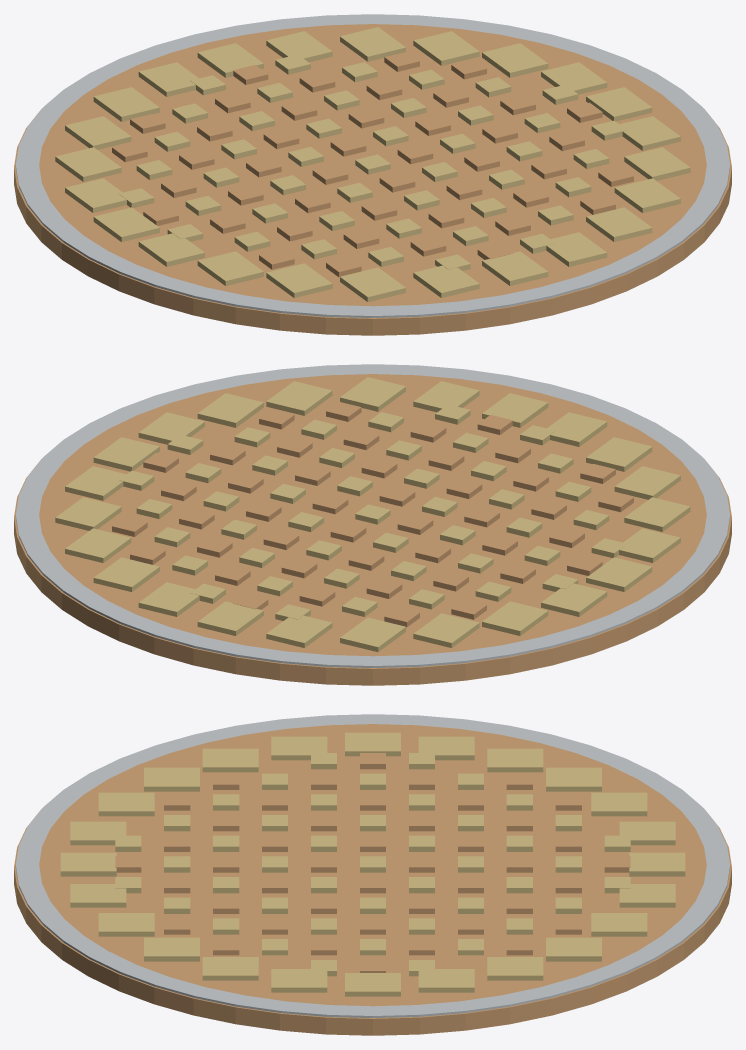
File: 03_L78_PlanarizedCopperInterconnectWafer.glb
The picture shows the model from 3 angles, top to bottom: view 1: azimuth 30°, elevation 25°; view 2: azimuth 150°, elevation 25°; view 3: azimuth 270°, elevation 25°; orthographic projection.
Parts seen in each view (by area): view 1: PlanarizedCopperInterconnectWafer_Node_0000, PlanarizedCopperInterconnectWafer_Node_0001, PlanarizedCopperInterconnectWafer_Node_0023, PlanarizedCopperInterconnectWafer_Node_0011, PlanarizedCopperInterconnectWafer_Node_0024, PlanarizedCopperInterconnectWafer_Node_0014, PlanarizedCopperInterconnectWafer_Node_0016, PlanarizedCopperInterconnectWafer_Node_0005, PlanarizedCopperInterconnectWafer_Node_0006, PlanarizedCopperInterconnectWafer_Node_0012, PlanarizedCopperInterconnectWafer_Node_0010, PlanarizedCopperInterconnectWafer_Node_0004 (+14 smaller); view 2: PlanarizedCopperInterconnectWafer_Node_0000, PlanarizedCopperInterconnectWafer_Node_0001, PlanarizedCopperInterconnectWafer_Node_0005, PlanarizedCopperInterconnectWafer_Node_0004, PlanarizedCopperInterconnectWafer_Node_0017, PlanarizedCopperInterconnectWafer_Node_0012, PlanarizedCopperInterconnectWafer_Node_0014, PlanarizedCopperInterconnectWafer_Node_0016, PlanarizedCopperInterconnectWafer_Node_0022, PlanarizedCopperInterconnectWafer_Node_0023, PlanarizedCopperInterconnectWafer_Node_0018, PlanarizedCopperInterconnectWafer_Node_0010 (+14 smaller); view 3: PlanarizedCopperInterconnectWafer_Node_0000, PlanarizedCopperInterconnectWafer_Node_0001, PlanarizedCopperInterconnectWafer_Node_0010, PlanarizedCopperInterconnectWafer_Node_0012, PlanarizedCopperInterconnectWafer_Node_0016, PlanarizedCopperInterconnectWafer_Node_0018, PlanarizedCopperInterconnectWafer_Node_0008, PlanarizedCopperInterconnectWafer_Node_0020, PlanarizedCopperInterconnectWafer_Node_0005, PlanarizedCopperInterconnectWafer_Node_0011, PlanarizedCopperInterconnectWafer_Node_0017, PlanarizedCopperInterconnectWafer_Node_0023 (+14 smaller).
Boxes of the visible parts, <box> form: PlanarizedCopperInterconnectWafer_Node_0000: <box>14,24,731,335</box>; PlanarizedCopperInterconnectWafer_Node_0001: <box>15,14,730,317</box>; PlanarizedCopperInterconnectWafer_Node_0023: <box>413,31,479,65</box>; PlanarizedCopperInterconnectWafer_Node_0011: <box>266,263,332,297</box>; PlanarizedCopperInterconnectWafer_Node_0024: <box>482,43,548,77</box>; PlanarizedCopperInterconnectWafer_Node_0014: <box>93,207,159,241</box>; PlanarizedCopperInterconnectWafer_Node_0016: <box>55,147,121,181</box>; PlanarizedCopperInterconnectWafer_Node_0005: <box>614,178,680,212</box>; PlanarizedCopperInterconnectWafer_Node_0006: <box>586,207,652,241</box>; PlanarizedCopperInterconnectWafer_Node_0012: <box>197,251,263,285</box>; PlanarizedCopperInterconnectWafer_Node_0010: <box>340,267,405,301</box>; PlanarizedCopperInterconnectWafer_Node_0004: <box>624,147,690,180</box>; PlanarizedCopperInterconnectWafer_Node_0000: <box>14,374,731,685</box>; PlanarizedCopperInterconnectWafer_Node_0001: <box>15,364,730,667</box>; PlanarizedCopperInterconnectWafer_Node_0005: <box>266,381,332,415</box>; PlanarizedCopperInterconnectWafer_Node_0004: <box>197,393,263,427</box>; PlanarizedCopperInterconnectWafer_Node_0017: <box>413,613,479,647</box>; PlanarizedCopperInterconnectWafer_Node_0012: <box>624,497,690,531</box>; PlanarizedCopperInterconnectWafer_Node_0014: <box>586,557,652,591</box>; PlanarizedCopperInterconnectWafer_Node_0016: <box>482,601,548,635</box>; PlanarizedCopperInterconnectWafer_Node_0022: <box>93,557,159,591</box>; PlanarizedCopperInterconnectWafer_Node_0023: <box>65,528,131,562</box>; PlanarizedCopperInterconnectWafer_Node_0018: <box>340,617,405,651</box>; PlanarizedCopperInterconnectWafer_Node_0010: <box>586,437,652,471</box>; PlanarizedCopperInterconnectWafer_Node_0000: <box>14,724,731,1035</box>; PlanarizedCopperInterconnectWafer_Node_0001: <box>15,714,730,1017</box>; PlanarizedCopperInterconnectWafer_Node_0010: <box>98,792,154,816</box>; PlanarizedCopperInterconnectWafer_Node_0012: <box>202,748,258,772</box>; PlanarizedCopperInterconnectWafer_Node_0016: <box>487,748,543,772</box>; PlanarizedCopperInterconnectWafer_Node_0018: <box>591,792,647,816</box>; PlanarizedCopperInterconnectWafer_Node_0008: <box>60,852,116,876</box>; PlanarizedCopperInterconnectWafer_Node_0020: <box>629,852,685,876</box>; PlanarizedCopperInterconnectWafer_Node_0005: <box>144,937,199,961</box>; PlanarizedCopperInterconnectWafer_Node_0011: <box>144,767,199,791</box>; PlanarizedCopperInterconnectWafer_Node_0017: <box>546,767,601,791</box>; PlanarizedCopperInterconnectWafer_Node_0023: <box>546,937,601,961</box>.
Bounding box in the file's own units: 1.54 × 0.0525 × 1.54.
